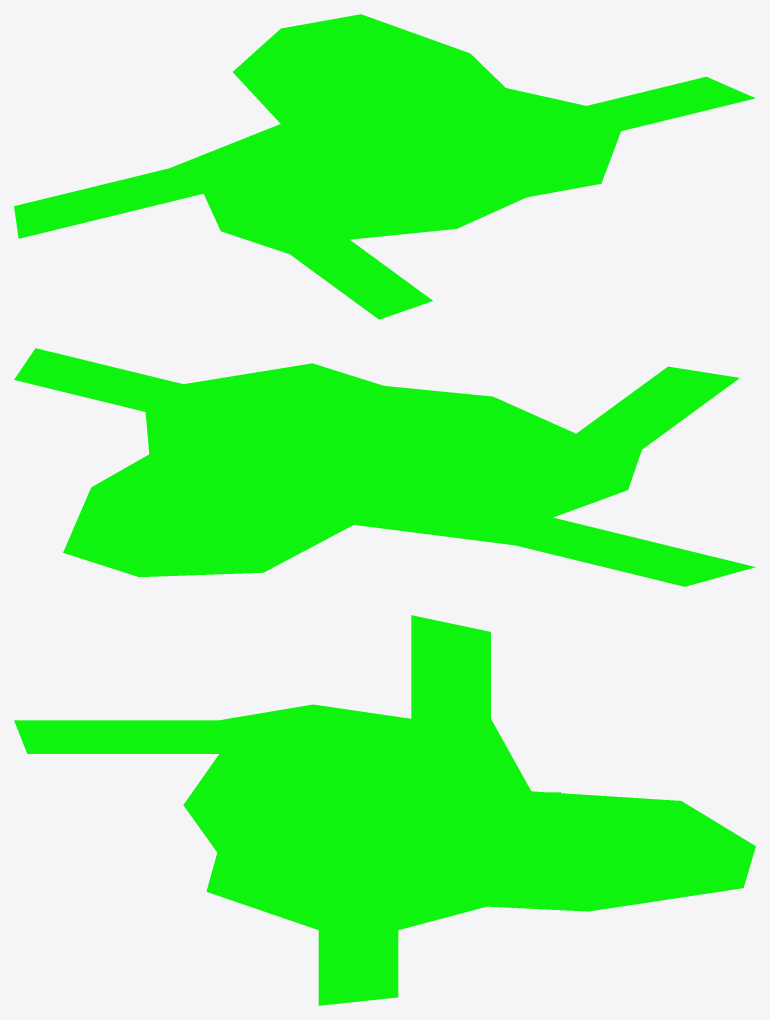
The model's file is s01a_td2-floor.glb.
3 renders of one model, top to bottom at view 1: azimuth 30°, elevation 25°; view 2: azimuth 150°, elevation 25°; view 3: azimuth 270°, elevation 25°, orthographic. The views are drawn at different scales.
Parts seen in each view (by area): view 1: collision_floor-colonly; view 2: collision_floor-colonly; view 3: collision_floor-colonly.
Part boxes in pixels (<box>): collision_floor-colonly: <box>14,14,755,319</box>; collision_floor-colonly: <box>14,348,755,586</box>; collision_floor-colonly: <box>14,615,755,1005</box>.
Bounding box in the file's own units: 69.77 × 0.1016 × 56.
